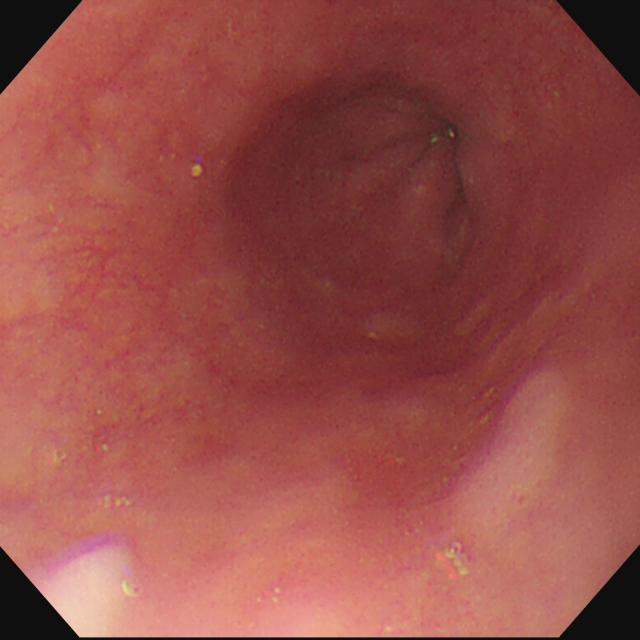I: (322, 92, 498, 243)
J: (459, 369, 566, 523), (53, 545, 128, 640)
